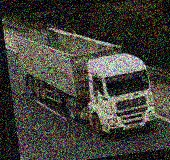truck: (13, 17, 159, 147)
